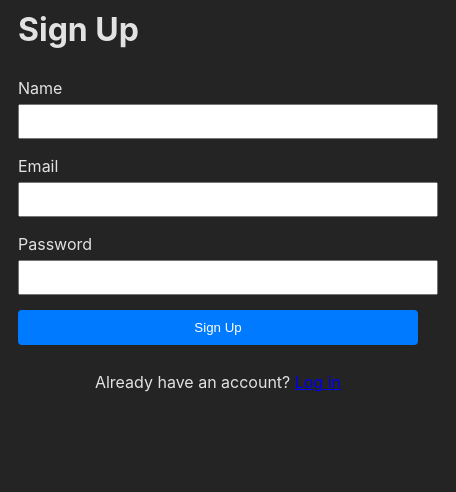
Test: SignupPage › should display error for duplicate email (409)
The image size is (456, 492).
Step 1. Type "Test User" into the field labelled "Name" → (228, 121), box [18, 104, 438, 139]
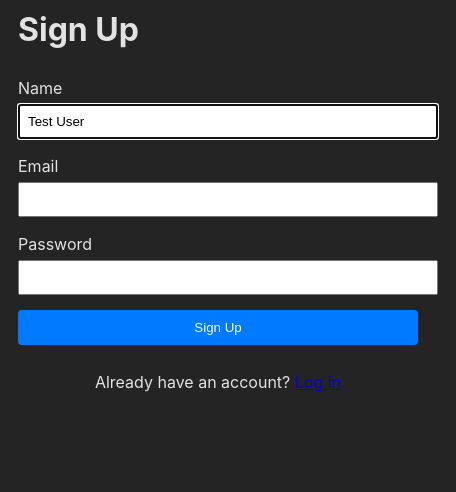
Step 2. Type "existing@example.com" into the field labelled "Email" → (228, 199), box [18, 182, 438, 217]
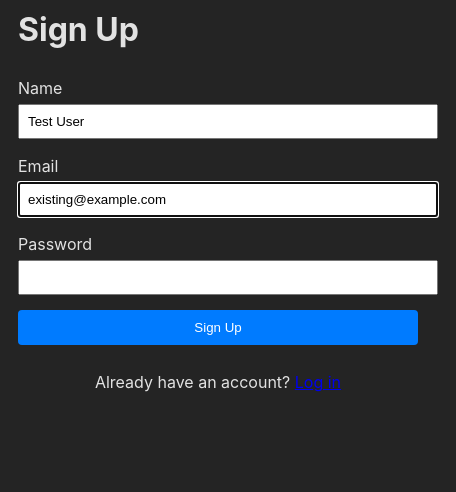
Step 3. Type "Password123!" into the password field labelled "Password" → (228, 277), box [18, 260, 438, 295]
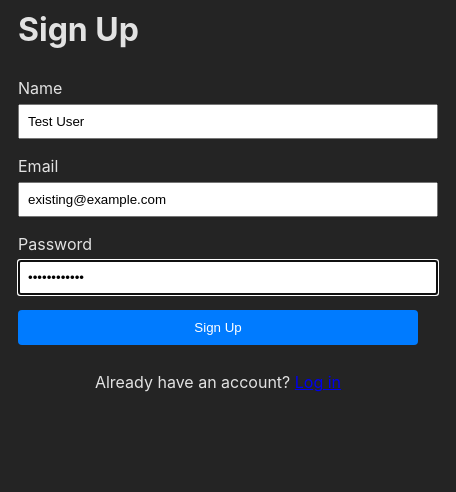
Step 4. Click the button "Sign Up" → (218, 327), box [18, 310, 418, 345]
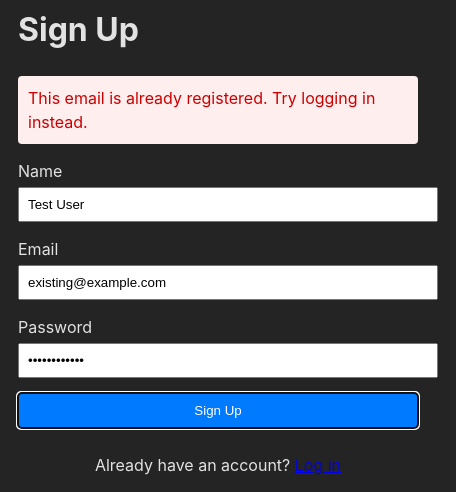
Expected: the text "This email is already registered. Try logging in instead." is shown, [18, 76, 418, 144]
